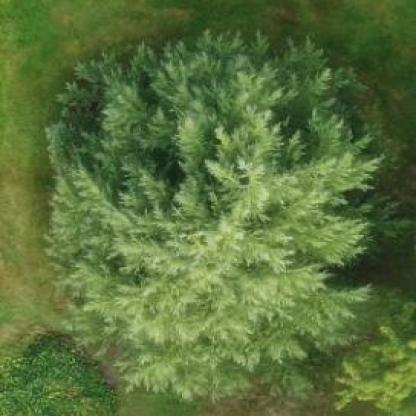Coniferous Tree: (28, 32, 408, 387)
